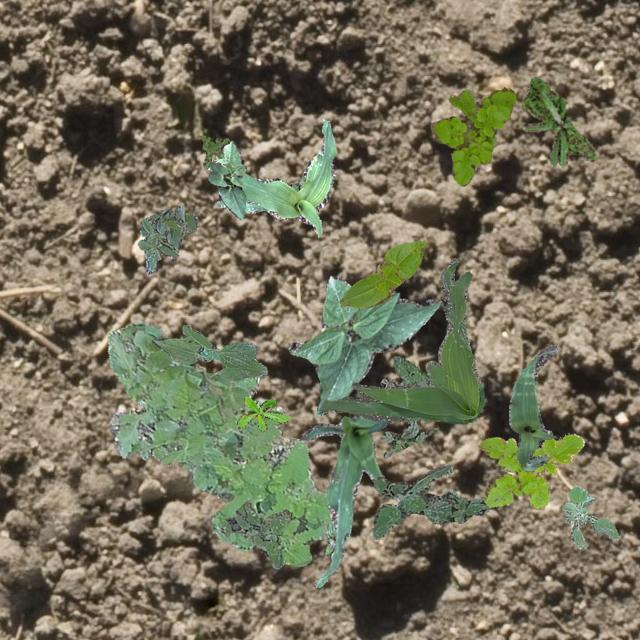crop: (288, 274, 440, 416), (300, 412, 388, 586), (216, 120, 334, 236), (150, 324, 266, 379), (508, 344, 556, 471), (338, 240, 424, 308), (208, 140, 245, 218)
weed: (107, 320, 330, 566), (317, 258, 483, 422), (372, 463, 488, 538), (430, 86, 514, 185), (478, 432, 582, 508), (522, 76, 596, 166), (380, 353, 432, 458), (220, 500, 290, 568), (136, 204, 198, 272), (562, 486, 618, 548), (236, 396, 288, 430), (200, 134, 228, 168), (324, 520, 336, 558)
